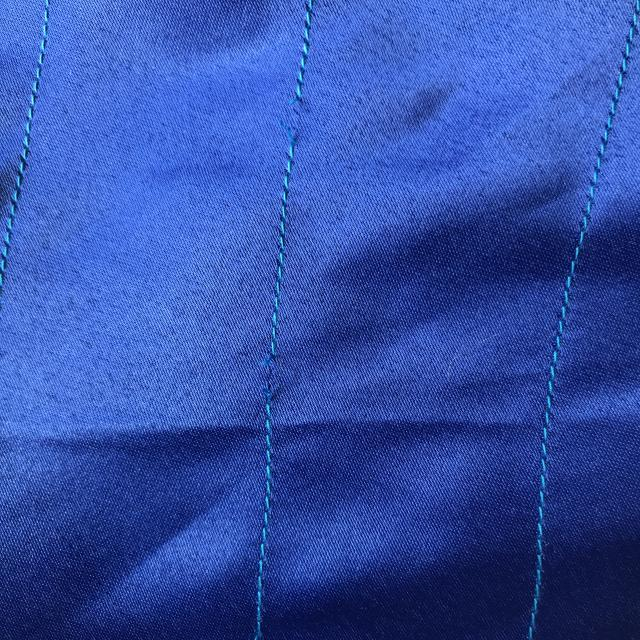broken: (262, 72, 326, 182), (236, 328, 297, 418)
